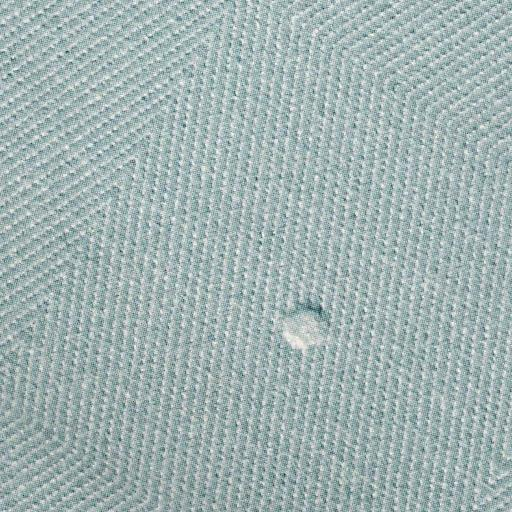knot: (272, 296, 340, 356)
